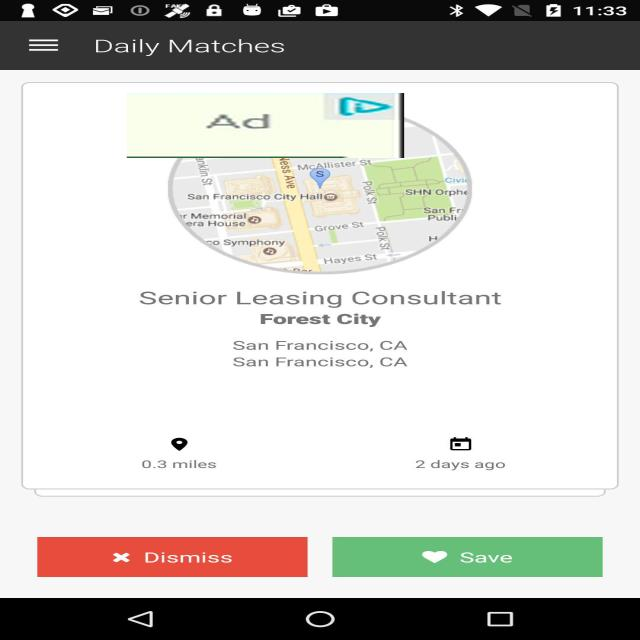sneaking: (127, 93, 404, 158)
